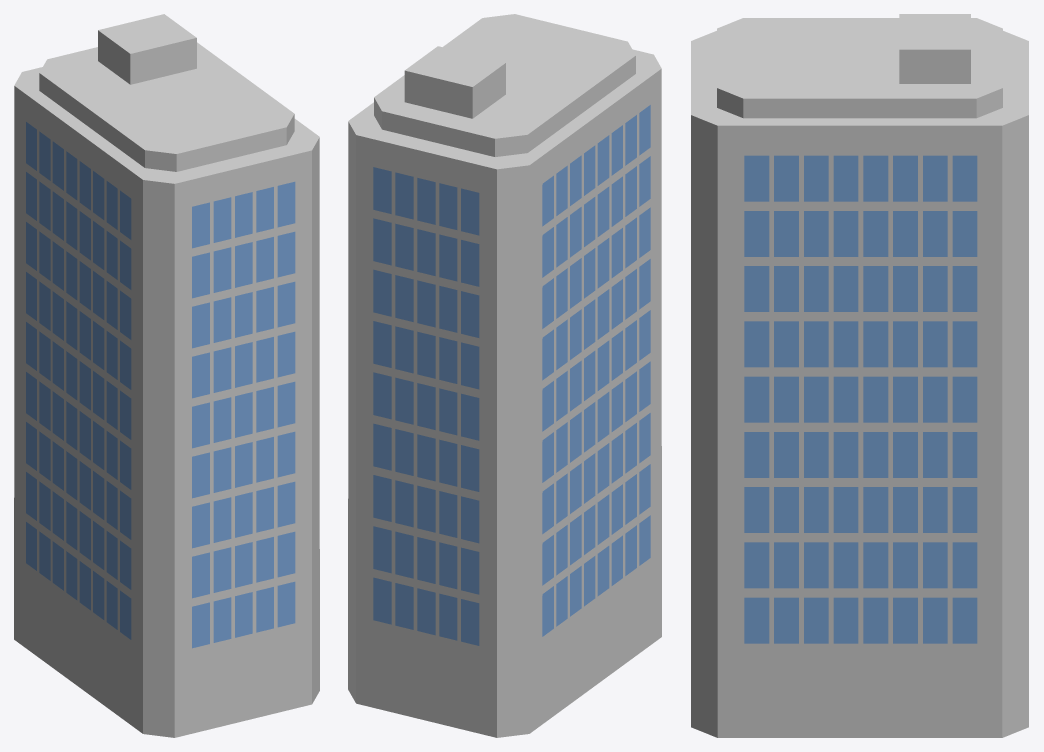
The model's file is Building_02.fbx.
The picture shows the model from 3 angles, left to right: view 1: azimuth 30°, elevation 25°; view 2: azimuth 150°, elevation 25°; view 3: azimuth 270°, elevation 25°; orthographic projection. The views are drawn at different scales.
Parts seen in each view (by area): view 1: Building_02; view 2: Building_02; view 3: Building_02.
Part boxes in pixels (x1,y1,x2,y2): Building_02: [14, 14, 319, 737]; Building_02: [348, 14, 661, 737]; Building_02: [691, 14, 1028, 737].
Size of the model in its own units: 782 by 2534 by 1169.
